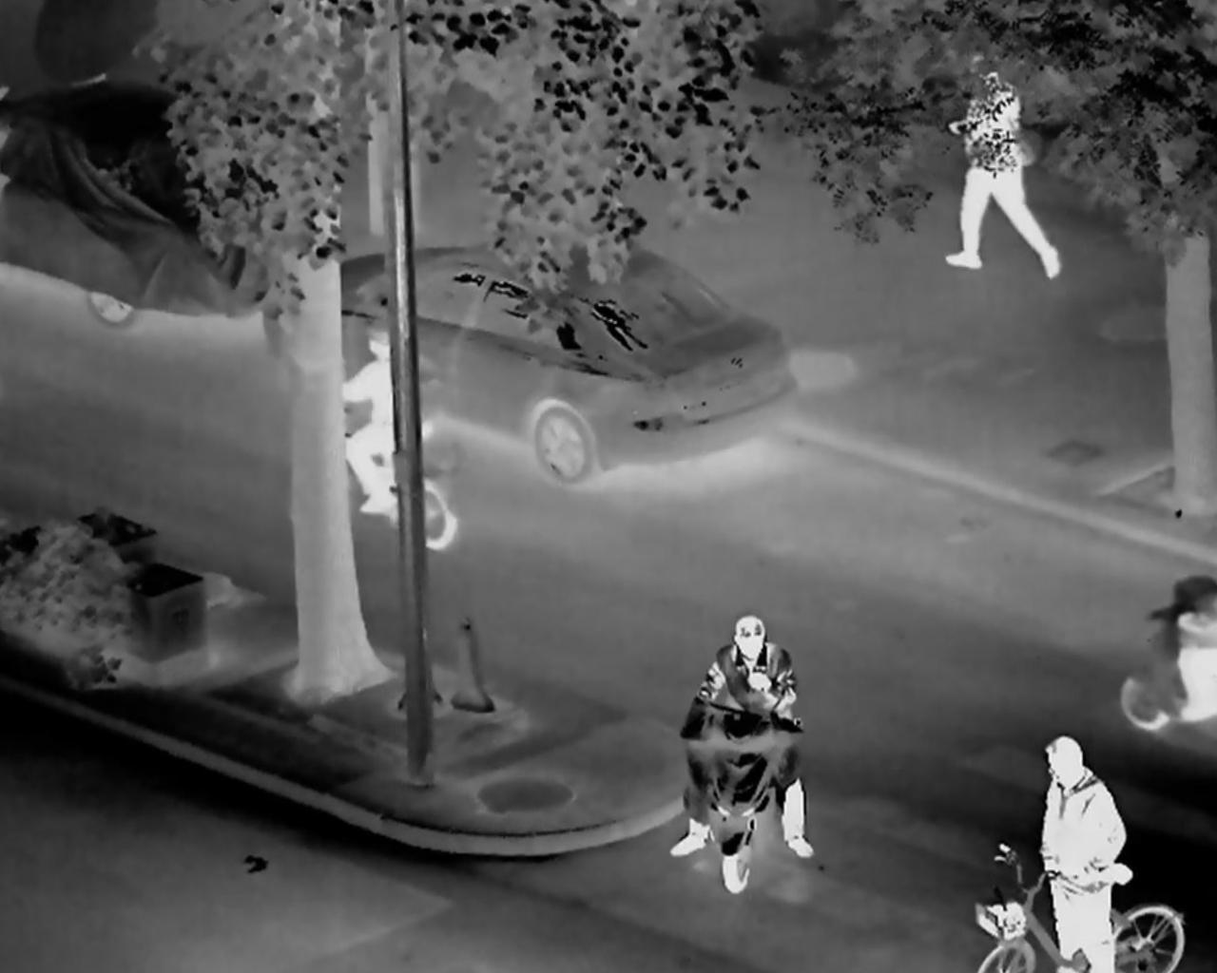person: (666, 597, 825, 884), (926, 56, 1074, 291), (1021, 712, 1153, 973), (334, 313, 445, 541)
